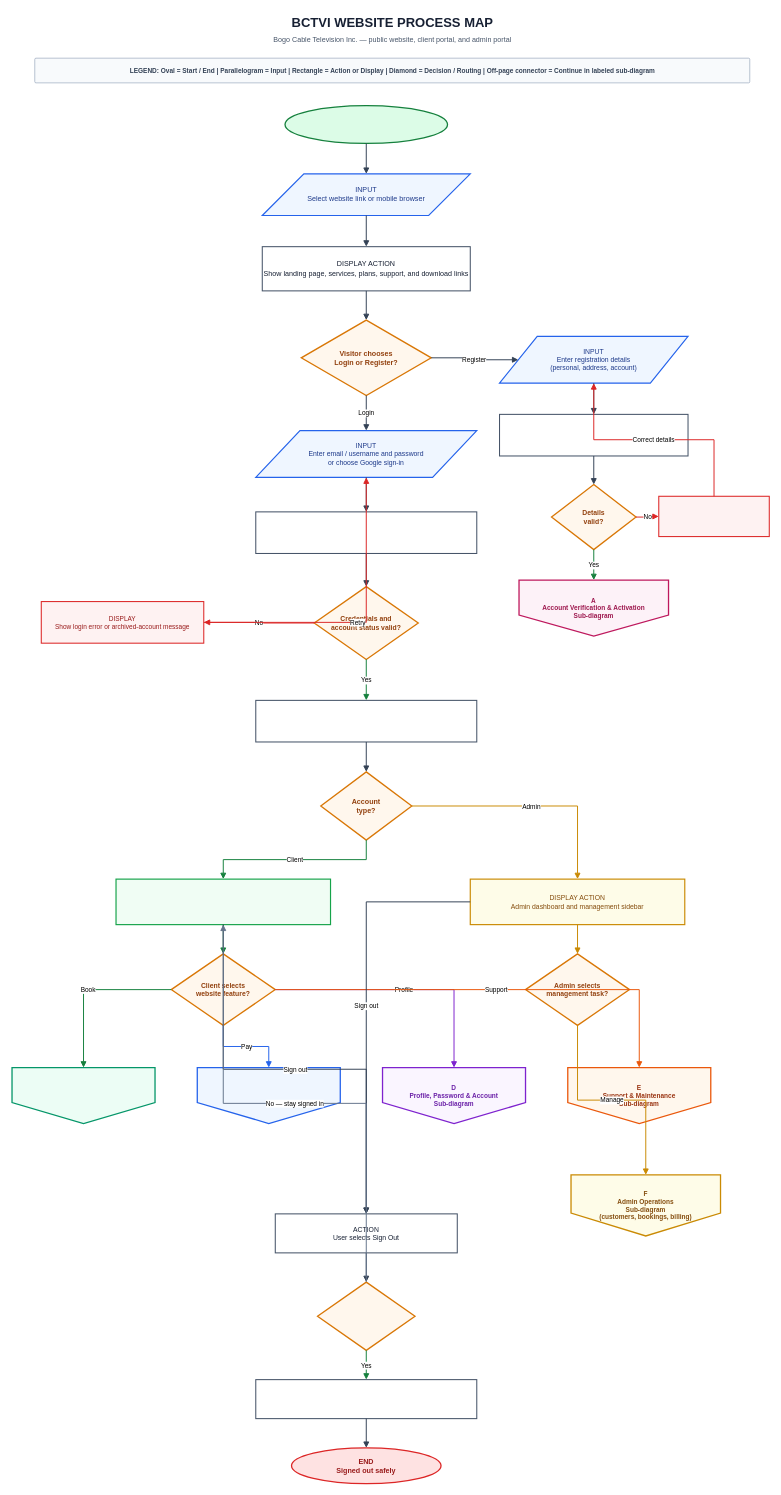
Some shapes in this 781 by 1495 pixel diagram are drawn without their labels. The box of each missing label's shape, as (x1, y1, x2, y2) in pixels:
ACTION Create secure session and load account dashboard: (255, 700, 477, 742)
ACTION End session and return to landing page: (255, 1379, 477, 1419)
ACTION Validate credentials and account status: (255, 511, 477, 554)
ACTION Validate registration and create client account: (499, 414, 688, 456)
B Booking & Installation Sub-diagram: (11, 1067, 155, 1124)
C Billing & Payment Sub-diagram: (196, 1067, 341, 1124)
Confirm sign out?: (317, 1281, 415, 1351)
DISPLAY ACTION Client dashboard, appointments, bills, profile, and notifications: (115, 878, 331, 925)
DISPLAY Show validation errors: (658, 495, 769, 537)
START Visitor opens BCTVI website: (284, 105, 448, 144)
